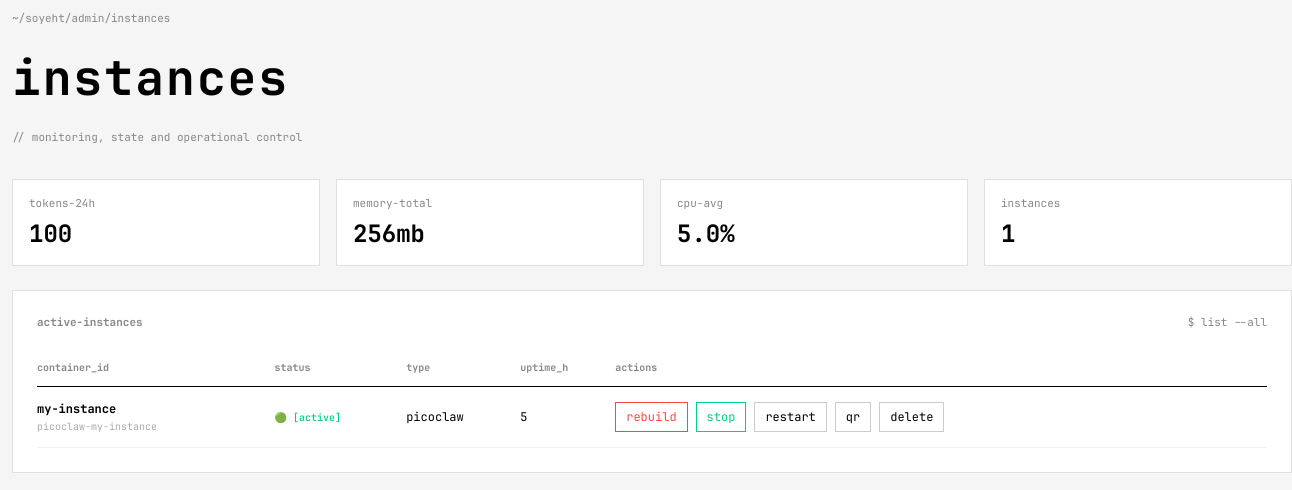
it: InstancesPage › shows 'stopping…' while stop is in-flight
Check: the text "picoclaw-my-instance" is shown, box [37,420,157,433]
Click the button "stop" at x=721, y=417, box [696,402,746,432]
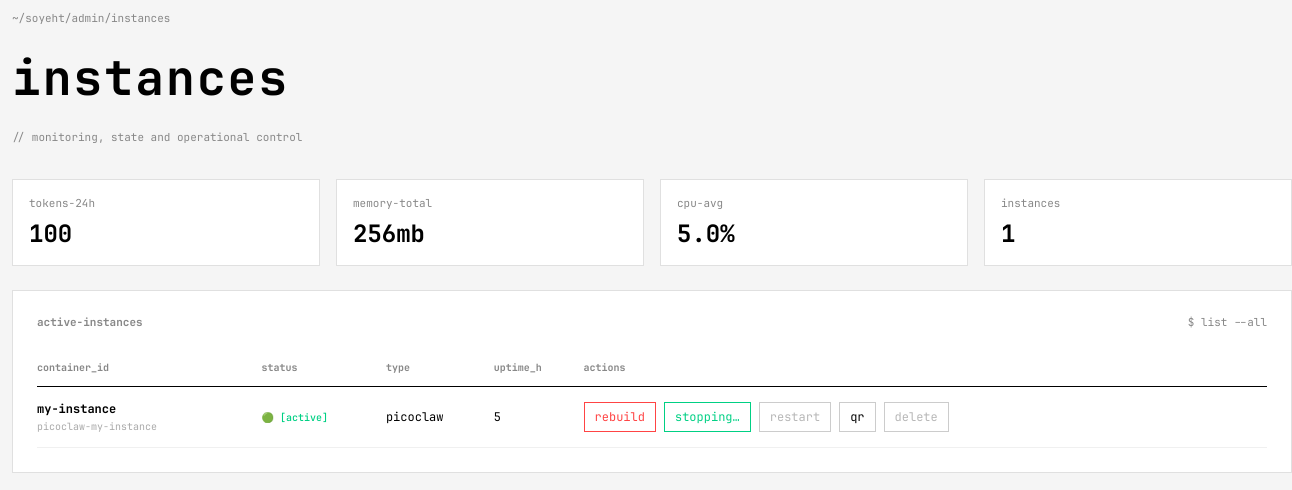
Check: the button "stopping…" is shown, box [664,402,751,432]
